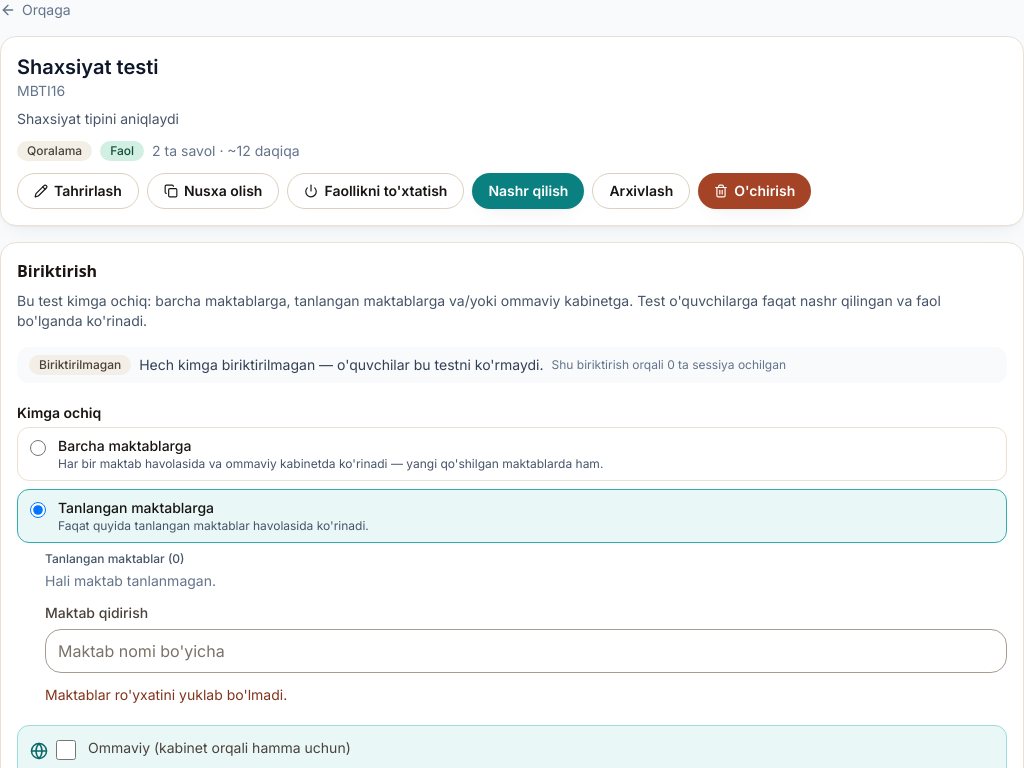
CatalogTestDetailPage — `Custom` test › meta oynasi joriy tartib raqamini API'dan ko'rsatadi
Expected: the heading "Shaxsiyat testi" is shown, x1=17 y1=53 x2=158 y2=81
Step 1. Click the button "Tahrirlash" → [78, 191], box x1=17 y1=173 x2=139 y2=209
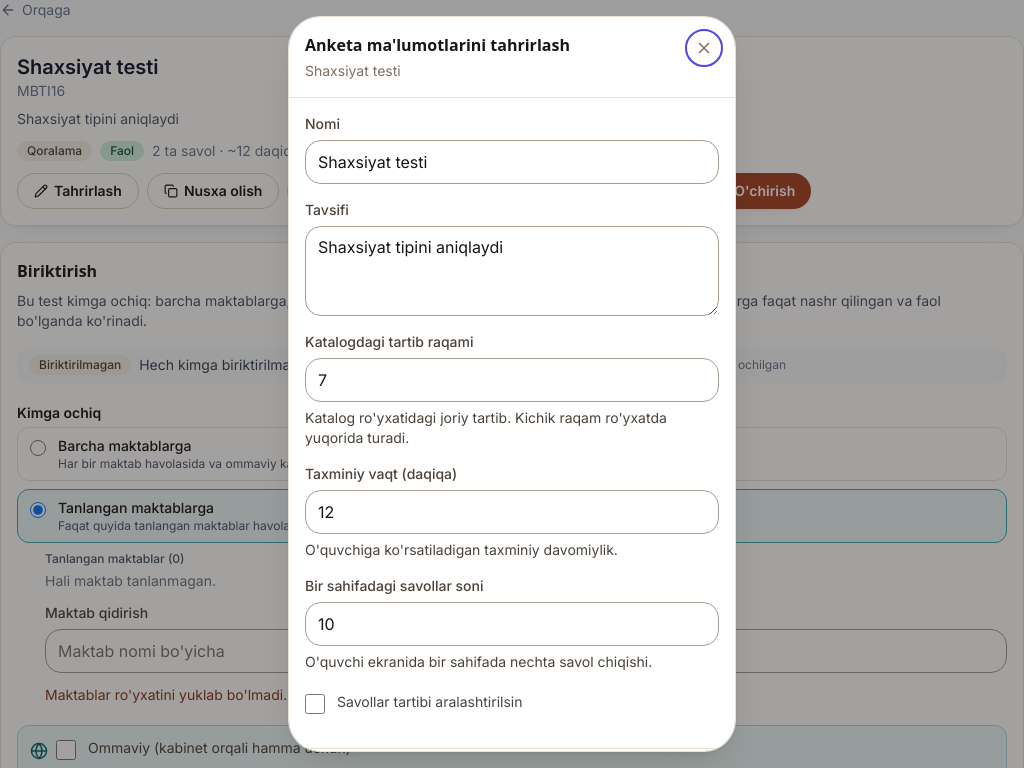
Expected: the number field labelled "Katalogdagi tartib raqami" holds "7", x1=305 y1=358 x2=719 y2=402
